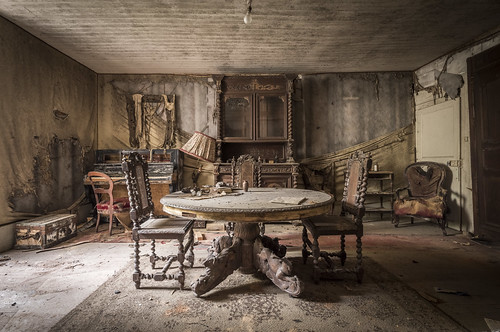chair: (121, 158, 189, 287), (307, 154, 369, 291), (389, 157, 453, 236)
table: (163, 187, 324, 289)
